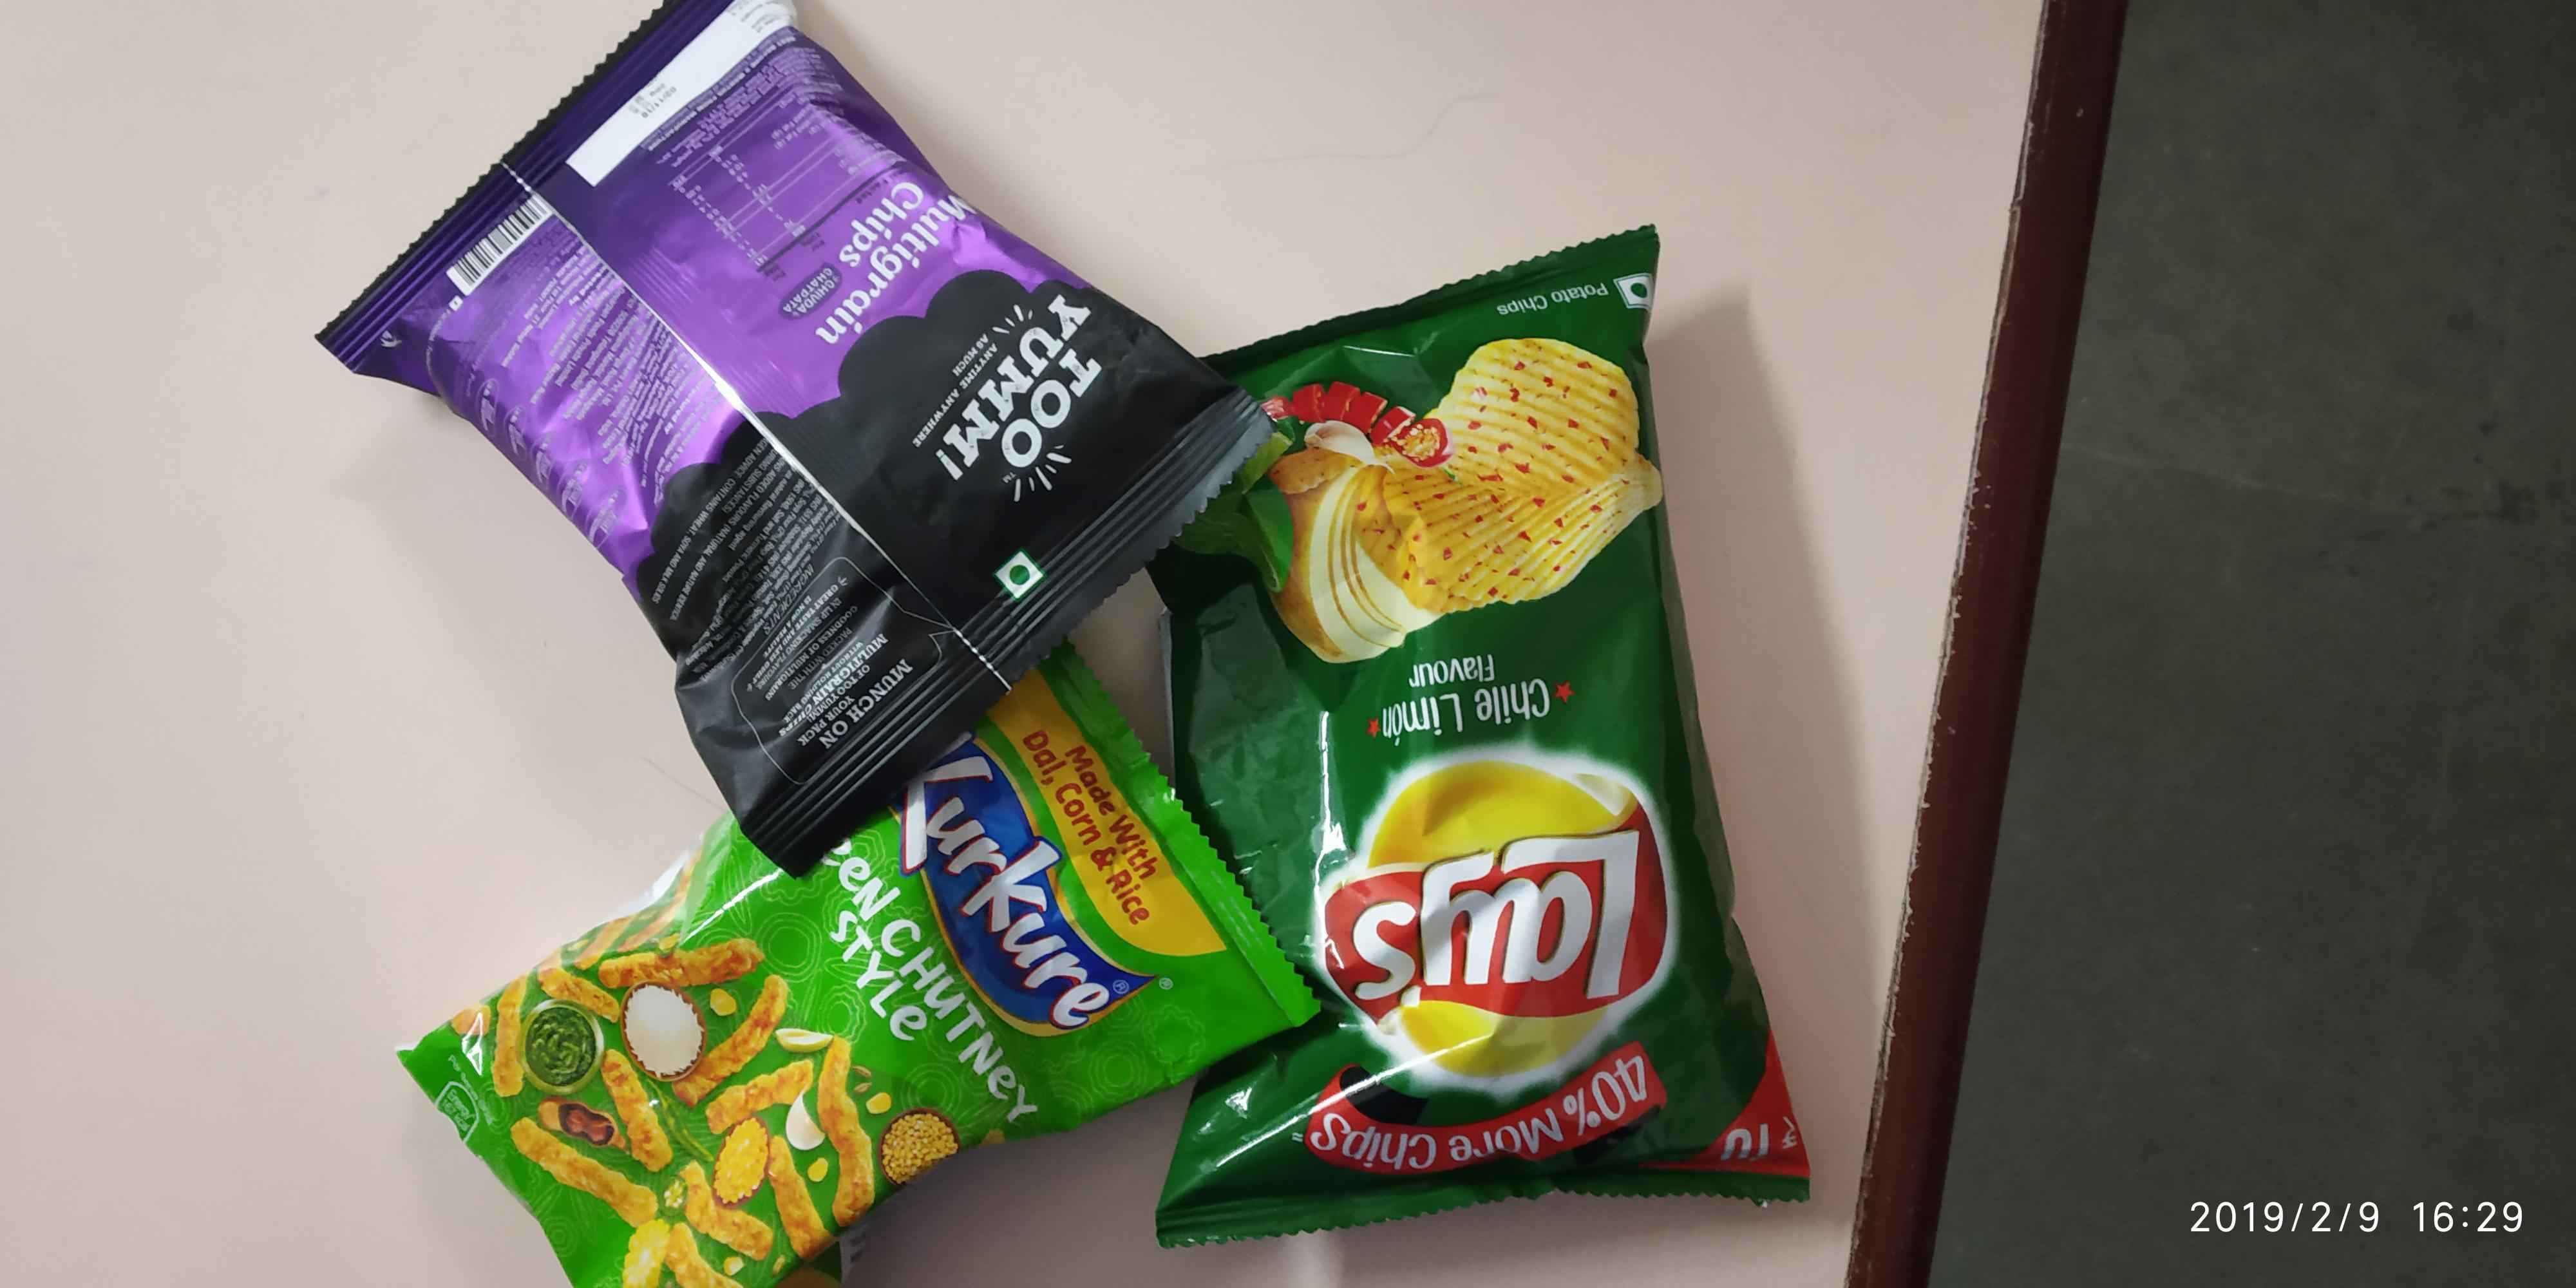Lays: (1280, 739, 1697, 1055)
kurkure: (889, 733, 1183, 1038)
tooyumm: (915, 286, 1135, 498)
